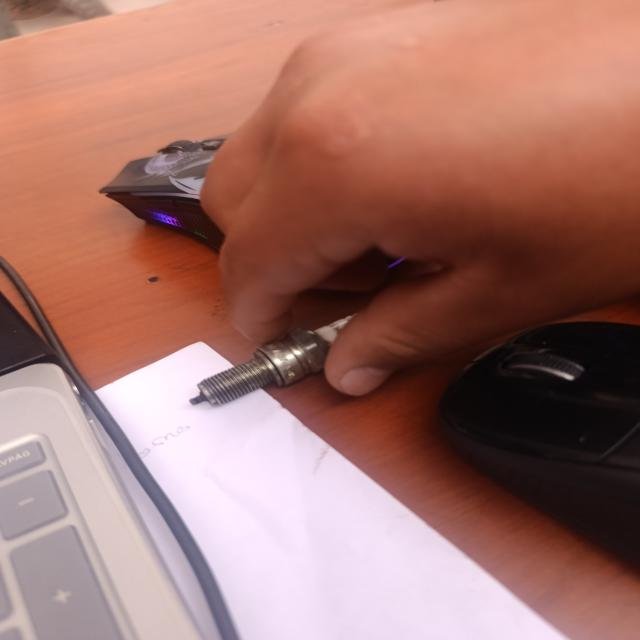Mause: (439, 322, 640, 535), (99, 136, 226, 251)
bujia: (190, 316, 353, 405)
